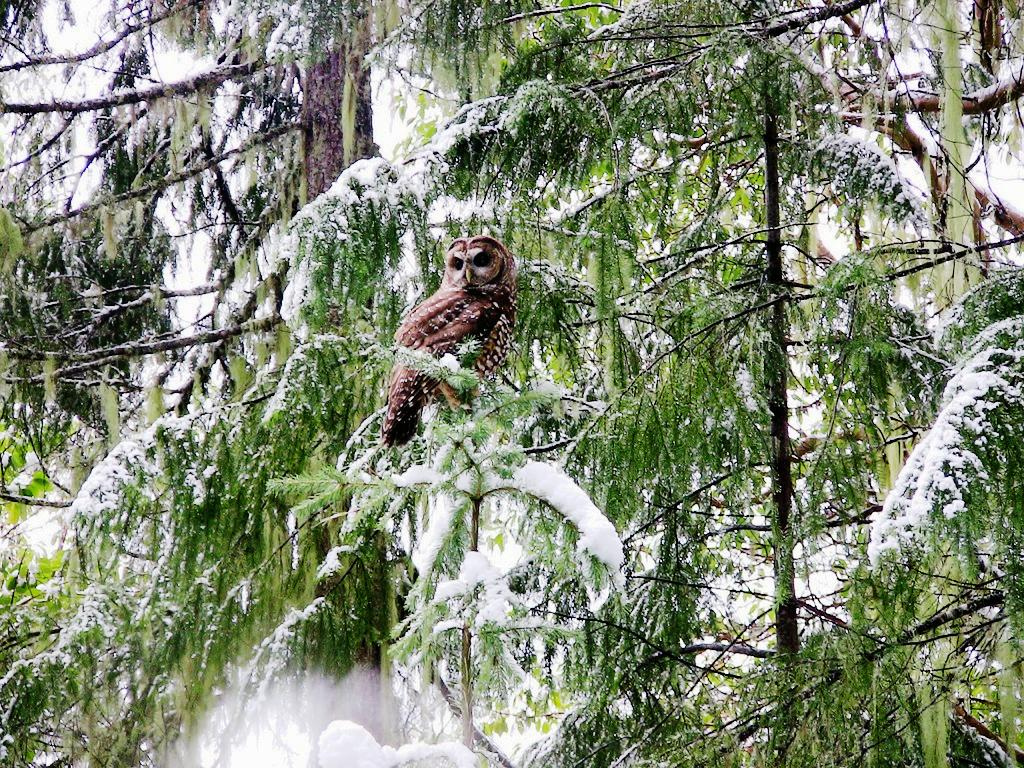Owl: (376, 228, 541, 469)
